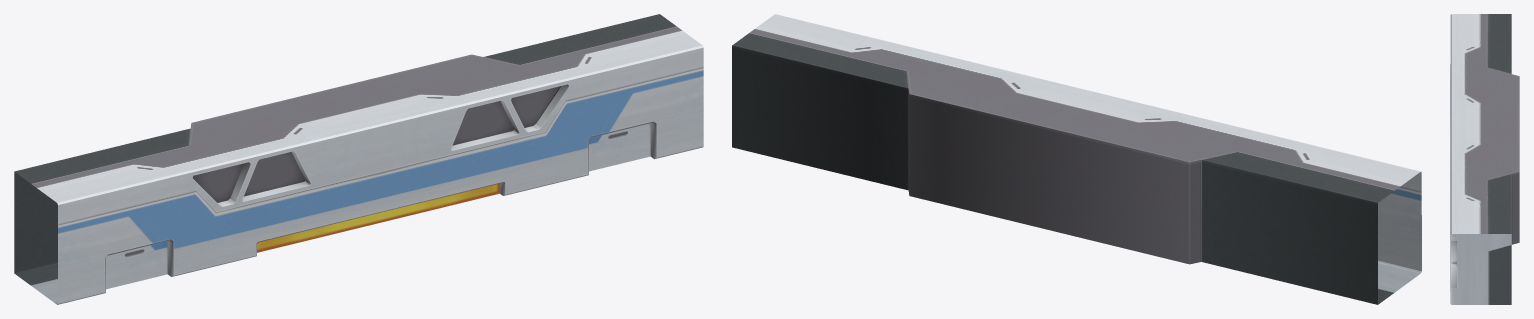
The model's file is mesh_1003_zhucheng_zjz_baobian002_2.FBX.
3 renders of one model, left to right at view 1: azimuth 30°, elevation 25°; view 2: azimuth 150°, elevation 25°; view 3: azimuth 270°, elevation 25°, orthographic. The views are drawn at different scales.
Parts seen in each view (by area): view 1: mesh_1003_zhucheng_zjz_baobian002; view 2: mesh_1003_zhucheng_zjz_baobian002; view 3: mesh_1003_zhucheng_zjz_baobian002.
Boxes of the visible parts, x1,y1,x2,y2 form: mesh_1003_zhucheng_zjz_baobian002: [14, 14, 703, 304]; mesh_1003_zhucheng_zjz_baobian002: [732, 14, 1421, 304]; mesh_1003_zhucheng_zjz_baobian002: [1450, 14, 1519, 304].
Bounding box in the file's own units: 2157 × 325 × 286.
